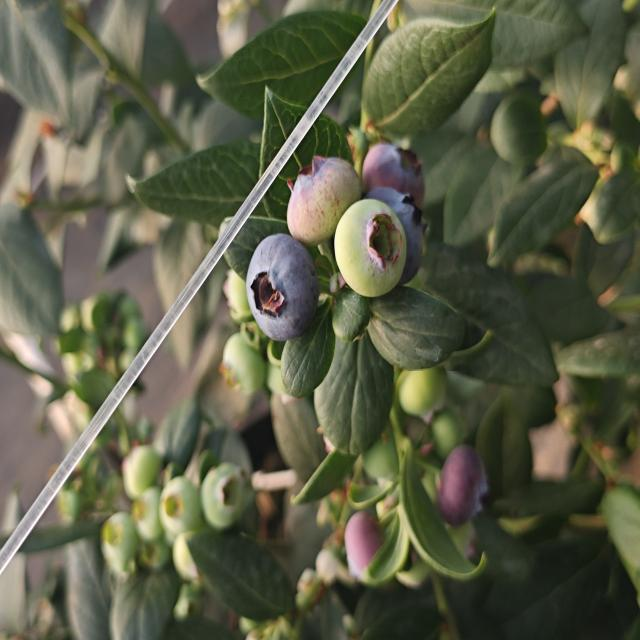ripe: (241, 226, 329, 344), (362, 178, 438, 288), (430, 439, 494, 526)
